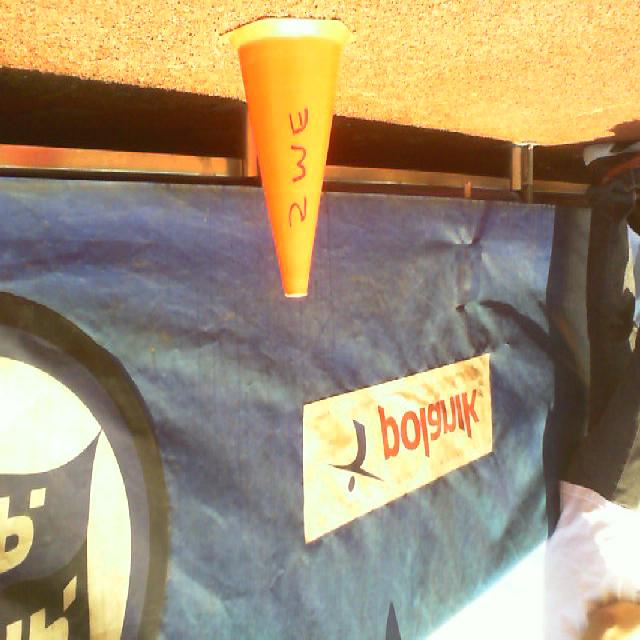cone: (218, 18, 356, 298)
